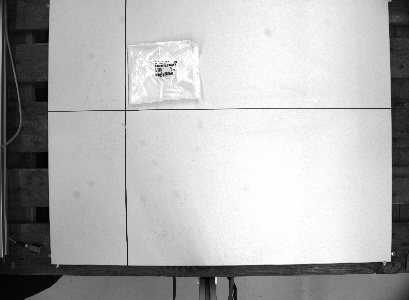t3: (122, 37, 205, 107)
